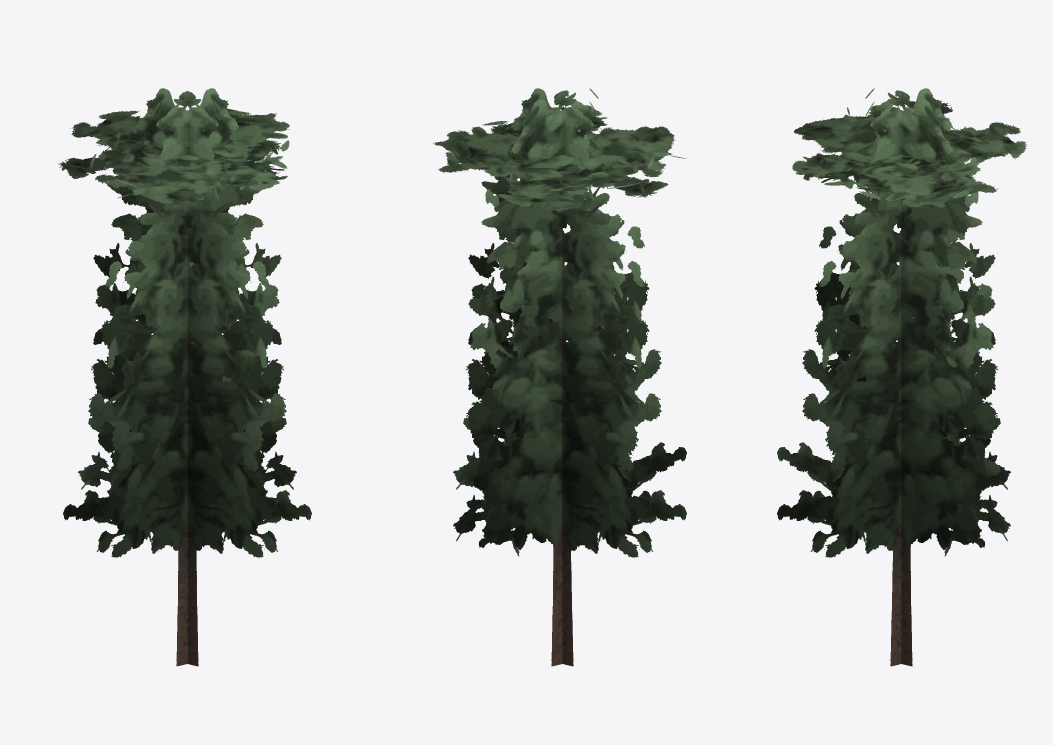
Rendered from tree_pine_canary_lod1.glb.
3 views of the same model, side by side, from view 1: azimuth 30°, elevation 25°; view 2: azimuth 150°, elevation 25°; view 3: azimuth 270°, elevation 25° (orthographic).
Parts seen in each view (by area): view 1: tree_pine_canary_lod1; view 2: tree_pine_canary_lod1; view 3: tree_pine_canary_lod1.
Boxes of the visible parts, bbox=[...] form: tree_pine_canary_lod1: bbox=[58, 88, 311, 666]; tree_pine_canary_lod1: bbox=[433, 88, 686, 666]; tree_pine_canary_lod1: bbox=[777, 88, 1026, 666].
Size of the model in its own units: 10.27 by 20.83 by 8.9.
1 material, 1 textured.
